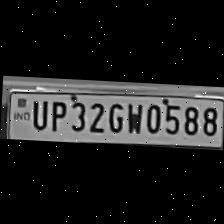0: (140, 99, 162, 133)
2: (84, 96, 106, 134)
3: (66, 96, 86, 132)
5: (160, 98, 180, 134)
8: (178, 100, 200, 136), (198, 100, 218, 136)
G: (103, 97, 125, 133)
P: (44, 96, 66, 132)
U: (26, 94, 48, 130)
W: (122, 98, 144, 134)
